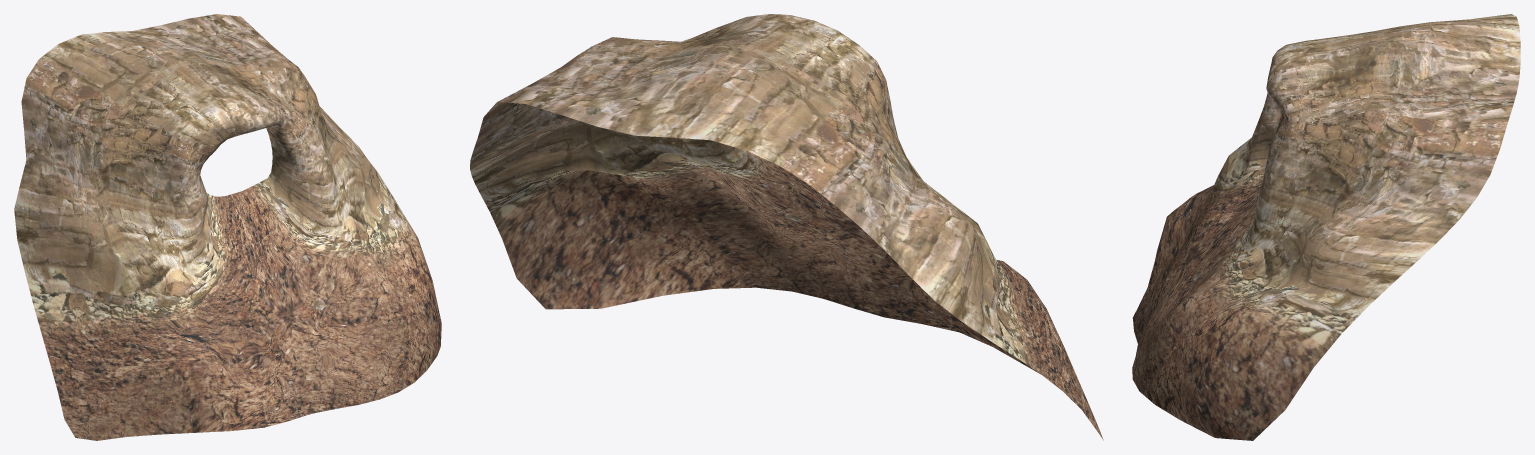
The model's file is thm_tato_cave_s01_r0_mesh_l0.fbx.
3 views of the same model, side by side, from view 1: azimuth 30°, elevation 25°; view 2: azimuth 150°, elevation 25°; view 3: azimuth 270°, elevation 25° (orthographic). The views are drawn at different scales.
Visible parts, largest first — view 1: mesh_node; view 2: mesh_node; view 3: mesh_node.
Boxes of the visible parts, x1,y1,x2,y2 form: mesh_node: (14, 14, 441, 440); mesh_node: (470, 14, 1103, 440); mesh_node: (1132, 14, 1520, 440).
Bounding box in the file's own units: 48.97 × 34.28 × 39.36.
